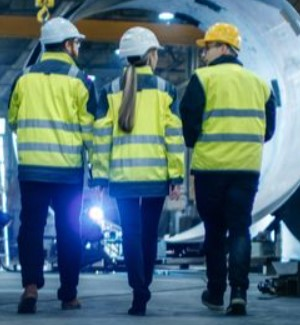worker: (92, 26, 185, 181), (8, 18, 92, 168), (190, 23, 266, 172)
